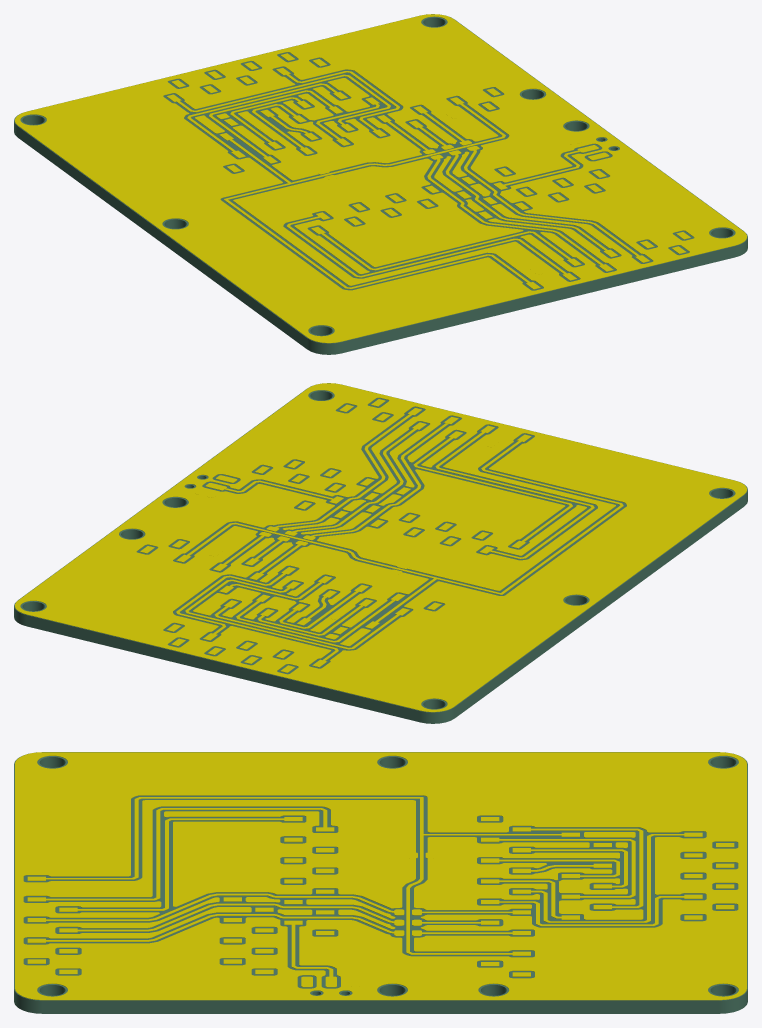
Rendered from board.glb.
3 renders of one model, top to bottom at view 1: azimuth 30°, elevation 25°; view 2: azimuth 150°, elevation 25°; view 3: azimuth 270°, elevation 25°, orthographic. The views are drawn at different scales.
Parts seen in each view (by area): view 1: =>[0:1:1:2], =>[0:1:1:4], =>[0:1:1:3]; view 2: =>[0:1:1:2], =>[0:1:1:4], =>[0:1:1:3]; view 3: =>[0:1:1:2], =>[0:1:1:4], =>[0:1:1:3].
Boxes of the visible parts, box(x1,y1,x2,y2) form: =>[0:1:1:2]: box(15, 14, 746, 343); =>[0:1:1:4]: box(14, 14, 747, 354); =>[0:1:1:3]: box(166, 53, 690, 289); =>[0:1:1:2]: box(15, 383, 746, 712); =>[0:1:1:4]: box(14, 383, 747, 723); =>[0:1:1:3]: box(140, 399, 531, 672); =>[0:1:1:2]: box(15, 752, 746, 1000); =>[0:1:1:4]: box(14, 752, 747, 1013); =>[0:1:1:3]: box(27, 817, 734, 987).
Bounding box in the file's own units: 0.061 × 0.00155 × 0.0761.
